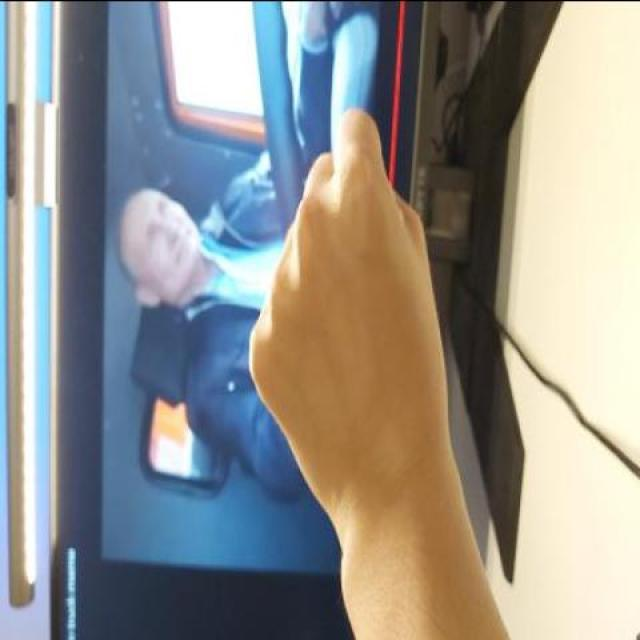Closed Hand: (212, 108, 468, 532)
